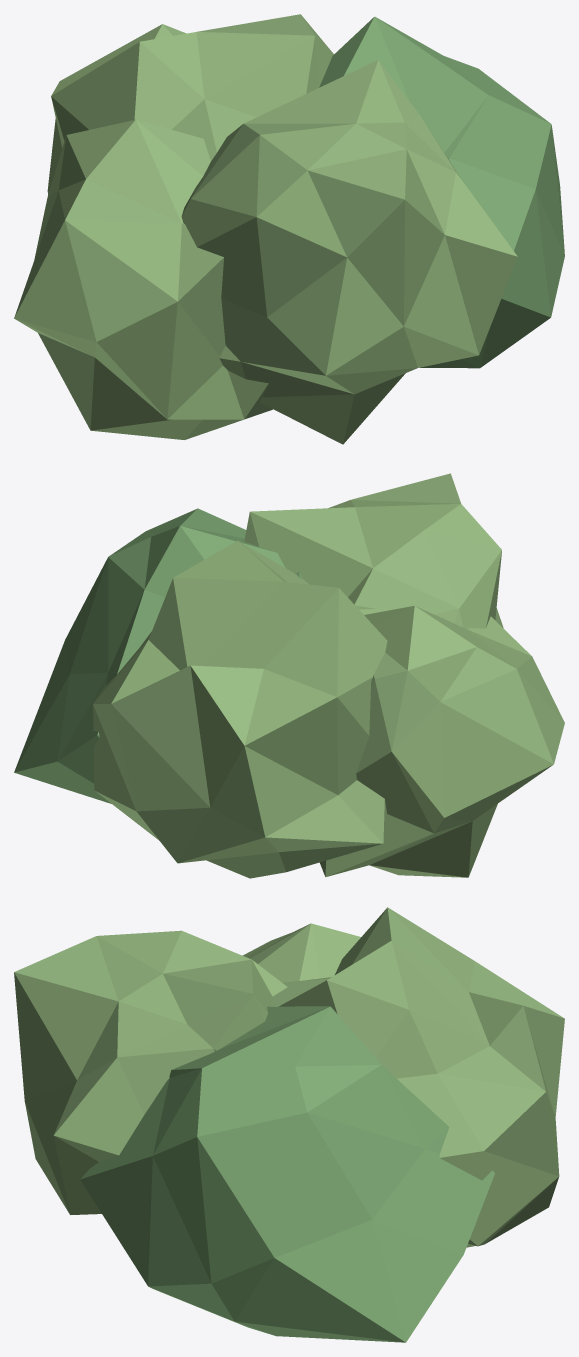
The model's file is nature_bush_05.glb.
3 views of the same model, one above another, from view 1: azimuth 30°, elevation 25°; view 2: azimuth 150°, elevation 25°; view 3: azimuth 270°, elevation 25° (orthographic). The views are drawn at different scales.
Visible parts, largest first — view 1: geometry_0; view 2: geometry_0; view 3: geometry_0.
Boxes of the visible parts, x1,y1,x2,y2 form: geometry_0: (14,14,564,444); geometry_0: (14,473,564,878); geometry_0: (14,907,564,1342).
Size of the model in its own units: 2.4 by 1.52 by 2.19.
